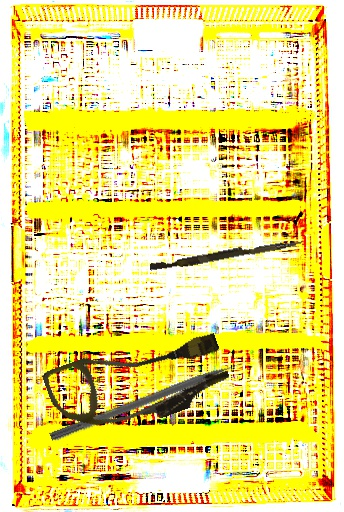Cannula: (41, 313, 235, 452)
Pusher: (49, 354, 257, 444), (149, 234, 303, 275)
